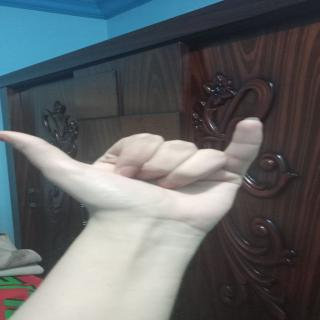YA: (0, 111, 298, 222)
